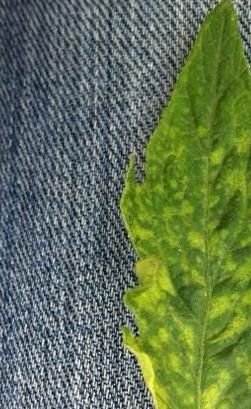Tomato leaf mosaic virus: (110, 0, 251, 409)
